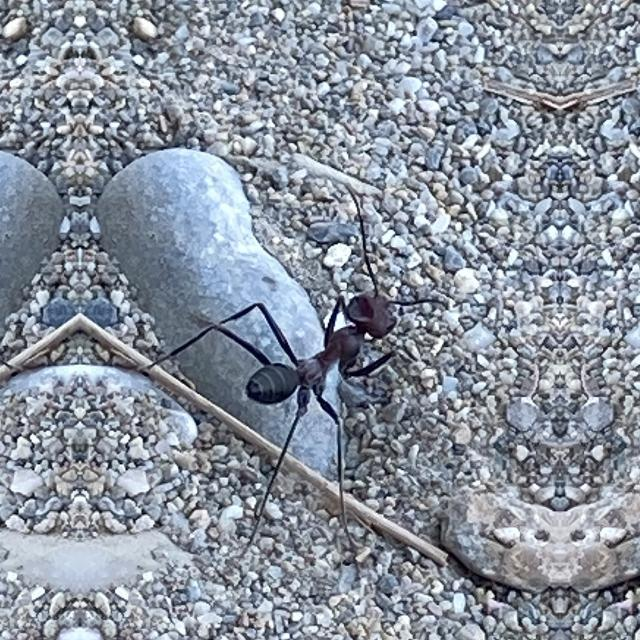Cataglyphis: (212, 248, 410, 478)
